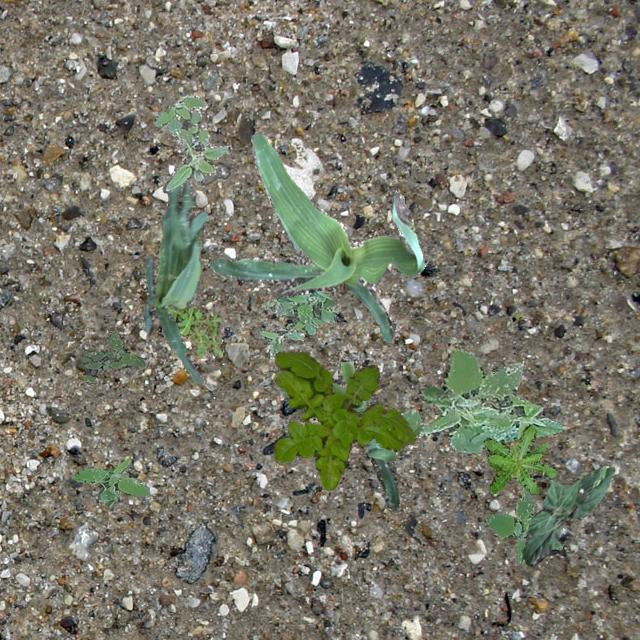crop: (208, 132, 424, 342), (276, 356, 398, 510), (142, 182, 208, 382), (522, 464, 614, 564)
weed: (272, 349, 416, 488), (399, 348, 562, 452), (152, 94, 232, 192), (484, 487, 562, 562), (482, 424, 556, 494), (260, 290, 336, 358), (73, 458, 148, 506), (82, 326, 144, 384), (166, 304, 222, 358)
